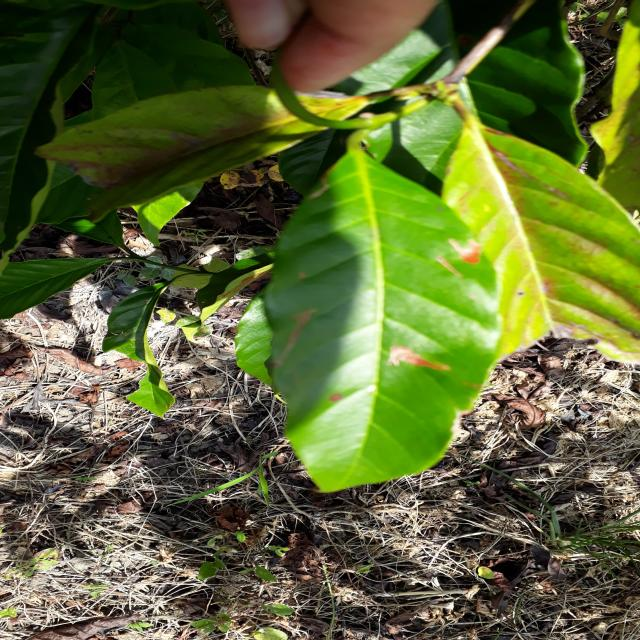Plaga-AranaRoja: (236, 147, 502, 496)
